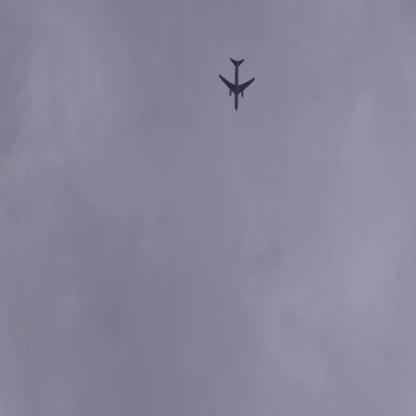CIV_Plane: (220, 53, 256, 111)
